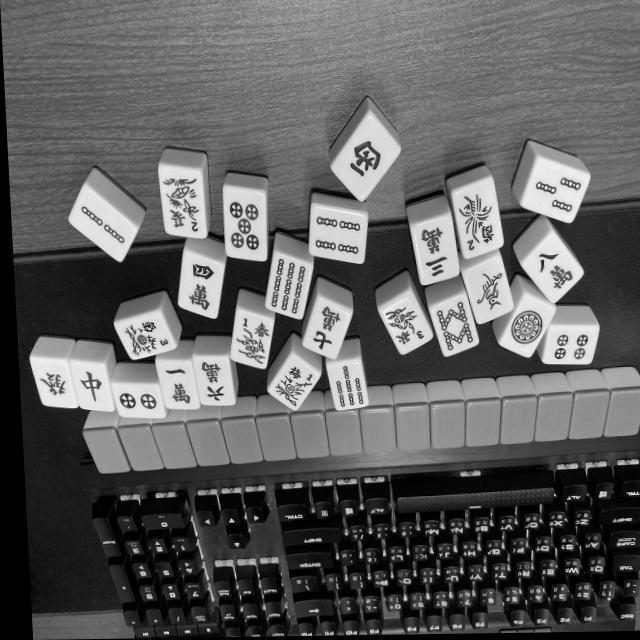1B: (461, 255, 515, 323)
1C: (159, 361, 201, 411)
1D: (495, 295, 558, 361)
1F: (269, 354, 324, 412)
1S: (230, 310, 278, 370)
2B: (68, 185, 142, 262)
2D: (111, 381, 166, 419)
2F: (450, 179, 504, 259)
2S: (160, 166, 208, 237)
3B: (520, 159, 590, 228)
3C: (412, 217, 461, 284)
3F: (117, 314, 177, 362)
3S: (379, 294, 434, 357)
4B: (307, 207, 369, 265)
4C: (175, 252, 226, 320)
4D: (542, 326, 601, 366)
5D: (222, 188, 269, 264)
6C: (193, 358, 236, 408)
7B: (329, 361, 368, 411)
7C: (301, 298, 354, 360)
8B: (429, 296, 480, 355)
8C: (521, 232, 586, 305)
9B: (264, 253, 317, 322)
GD: (31, 360, 80, 410)
RD: (70, 362, 114, 413)
WW: (329, 114, 403, 203)
